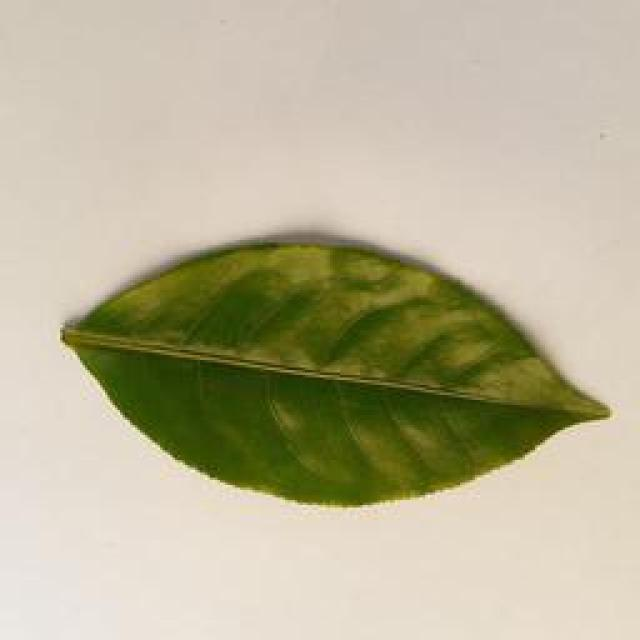Healthy: (58, 230, 614, 508)
